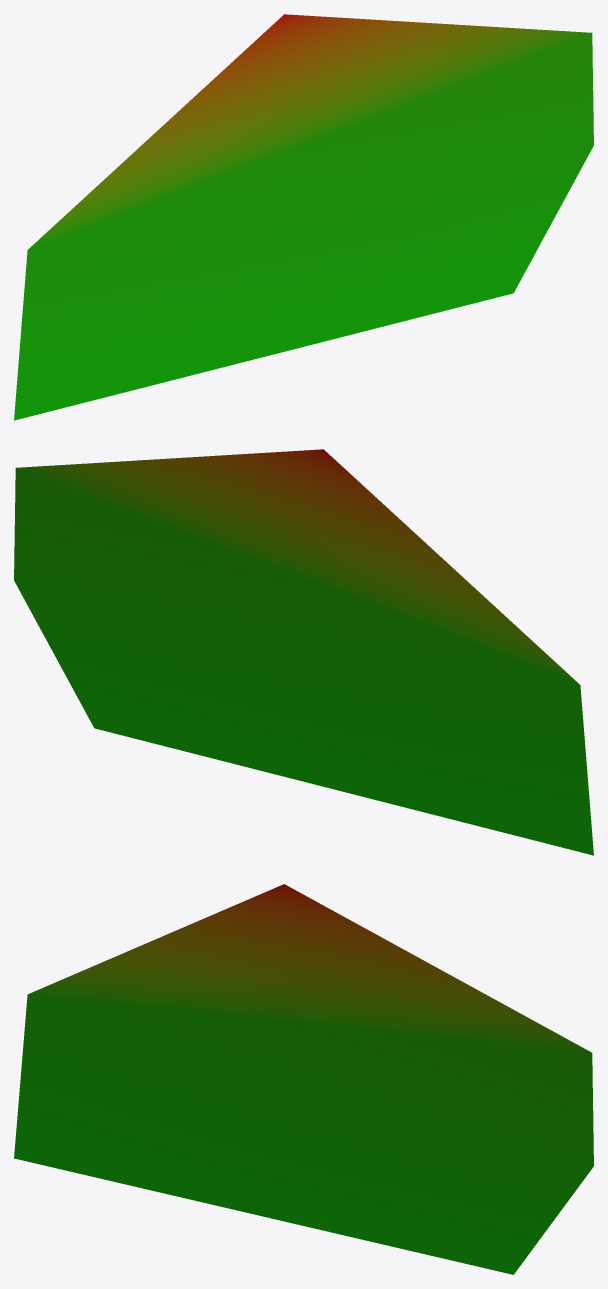
File: Fern_LOD3_Var5_rmAsg.fbx
The picture shows the model from 3 angles, top to bottom: view 1: azimuth 30°, elevation 25°; view 2: azimuth 150°, elevation 25°; view 3: azimuth 330°, elevation 25°; orthographic projection.
Parts seen in each view (by area): view 1: _8ca9_Var5_LOD3; view 2: _8ca9_Var5_LOD3; view 3: _8ca9_Var5_LOD3.
Part boxes in pixels (bbox=[...]): _8ca9_Var5_LOD3: bbox=[14, 14, 593, 420]; _8ca9_Var5_LOD3: bbox=[14, 449, 593, 855]; _8ca9_Var5_LOD3: bbox=[14, 884, 593, 1274].
Bounding box in the file's own units: 142 × 79.7 × 1.48e-05.
